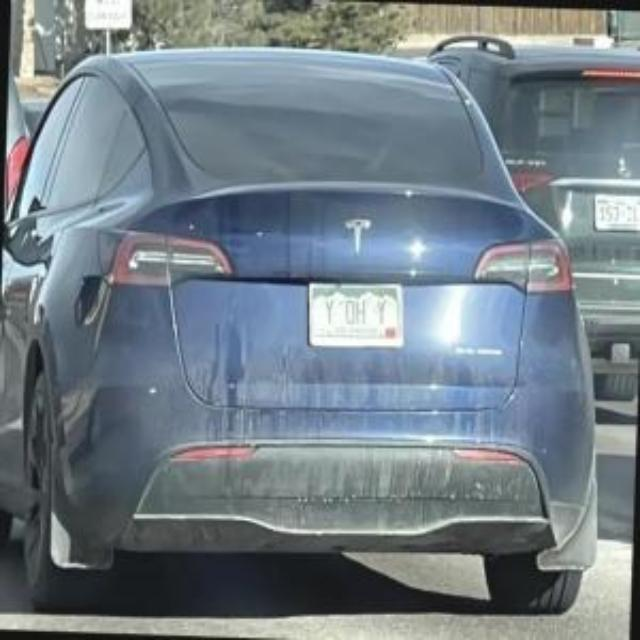License Plate: (308, 282, 403, 349)
